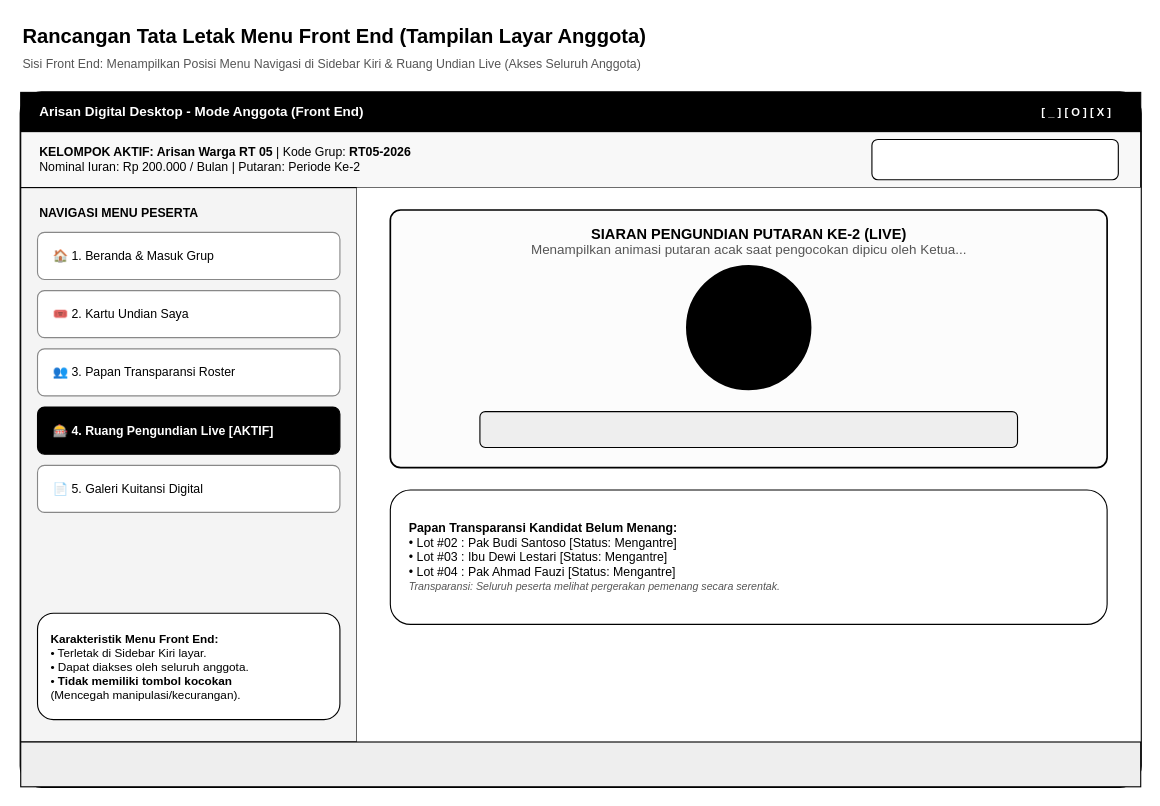
Some shapes in this 1160 by 806 pixel diagram are drawn without their labels. Each missing label, with the centre of its shape:
#01 Ibu Siti Aminah: [748,327]
Aplikasi Arisan Digital Desktop (Front End) | Hak Akses: Seluruh Anggota Peserta: [580,764]
Profil: Ibu Siti Aminah (Lot #01) Status: Terdaftar di Grup: [994,159]
STATUS HASIL: SAH TERKUNCI | Total Hadiah: Rp 1.000.000: [748,428]
